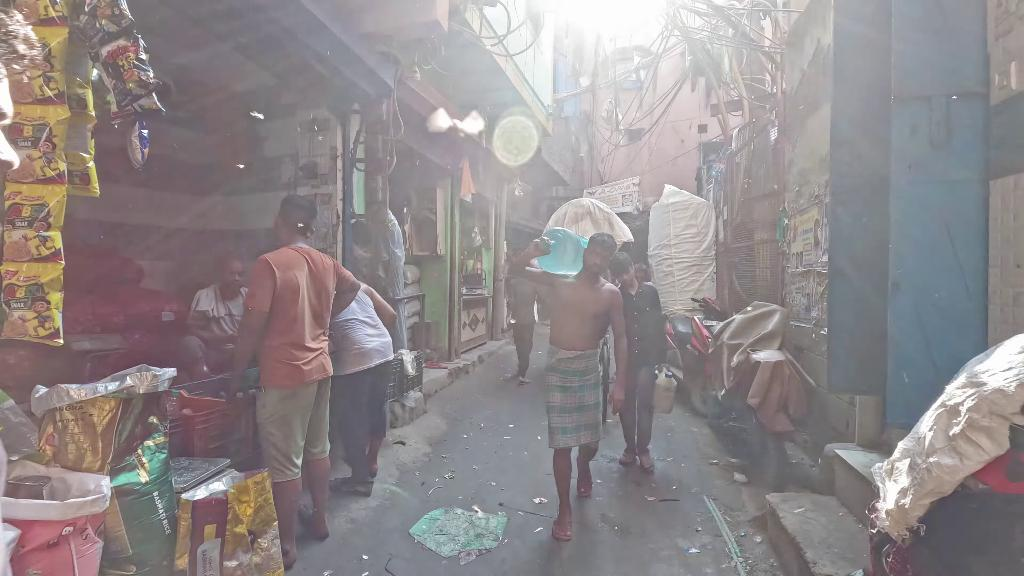garbage: (407, 499, 507, 558)
